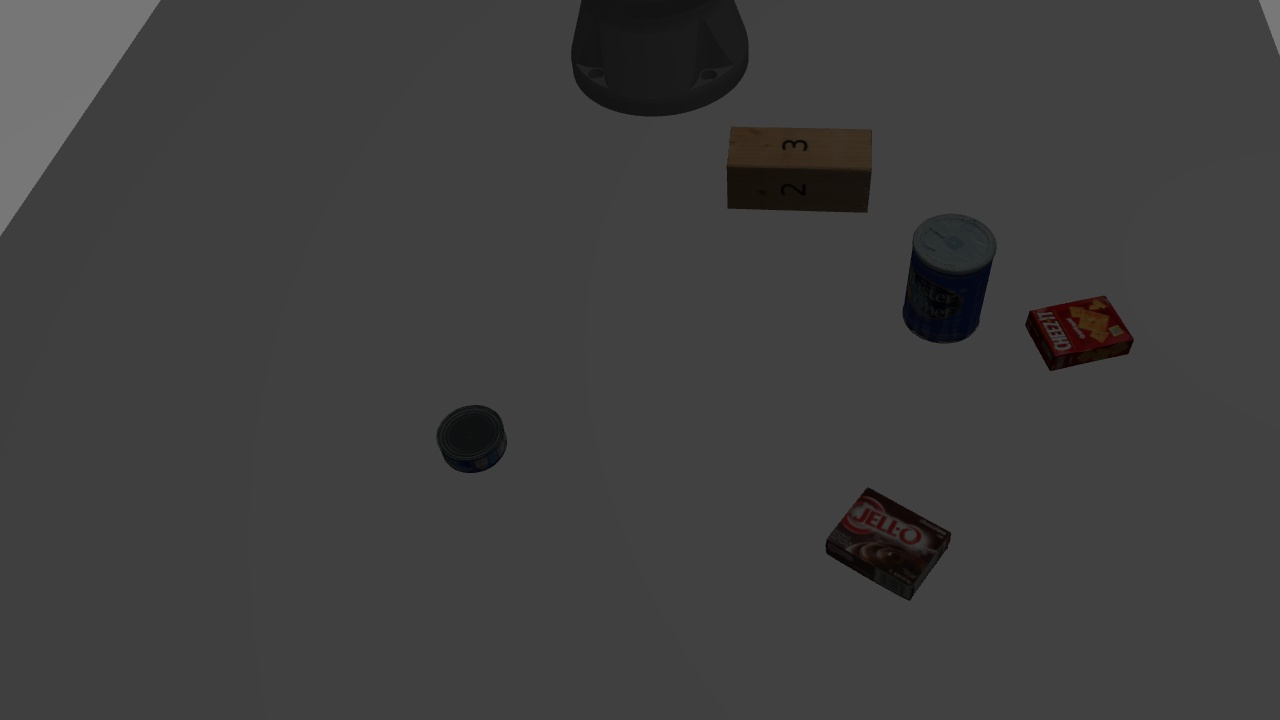cracker_box: (1024, 292, 1133, 366)
master_chef_can: (900, 207, 994, 354)
pudding_box: (822, 482, 951, 601)
tuna_fish_can: (435, 404, 509, 469)
wood_block: (724, 112, 879, 216)
